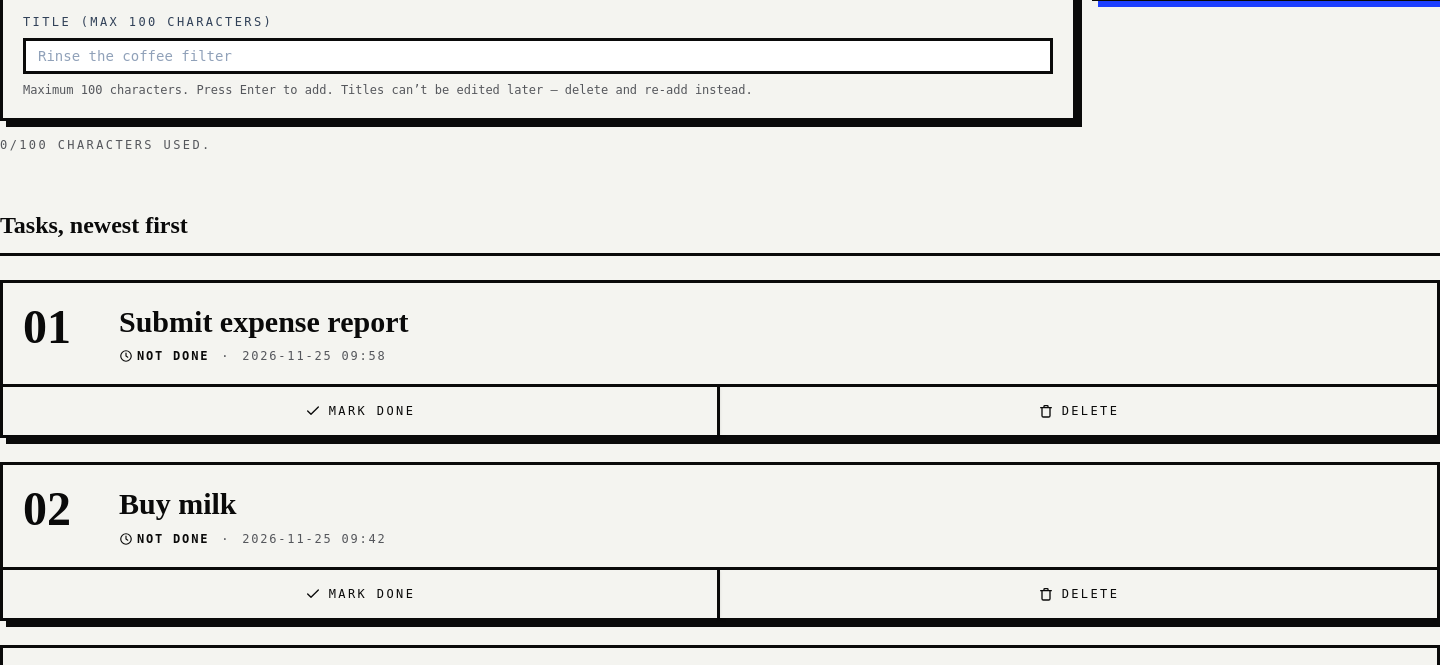
Test: Tasks — mark a task as done › [AC-014] reports a status the server refused to save
(page scrolled)
Click the button with test id "mark-done-btn". click: {"x": 362, "y": 594}
box: x1=3 y1=570 x2=720 y2=618
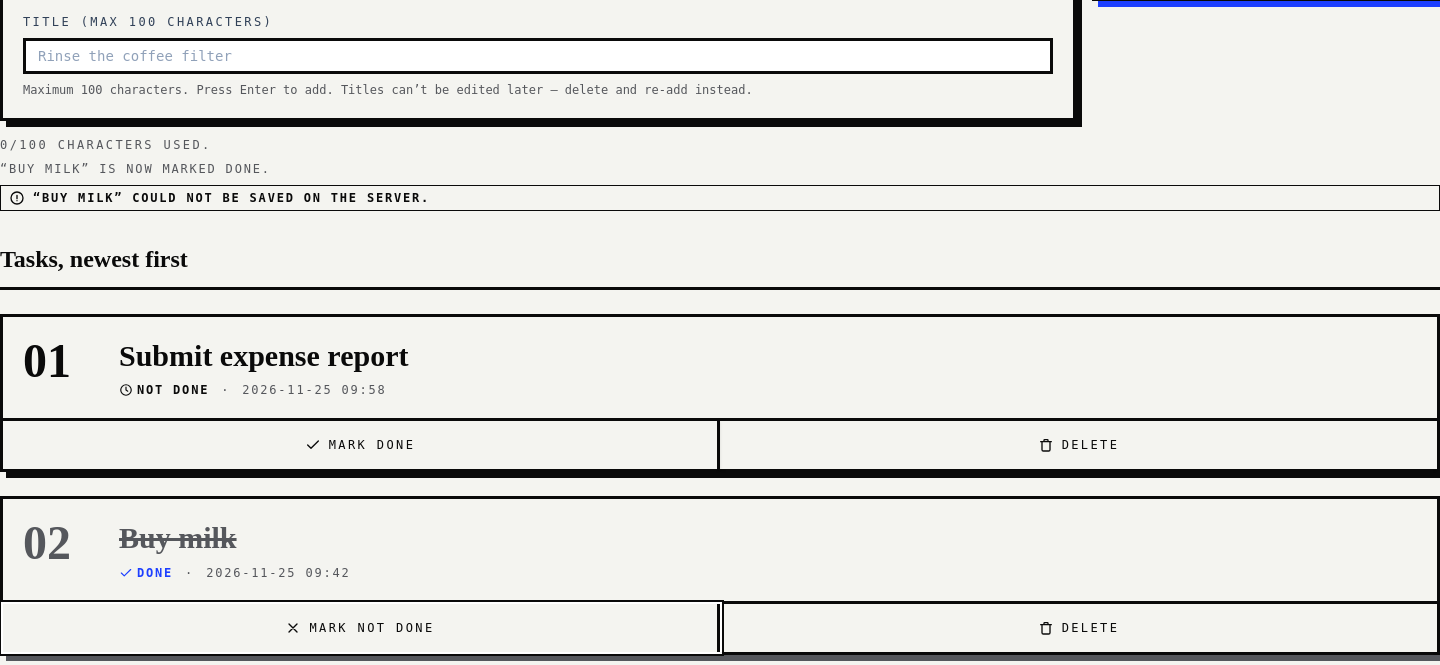
Check: the text "“Buy milk” could not be saved on the server." is shown, box x1=0 y1=184 x2=1439 y2=210
